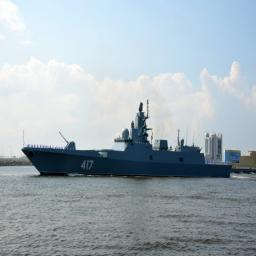Fragata: (20, 98, 236, 176)
